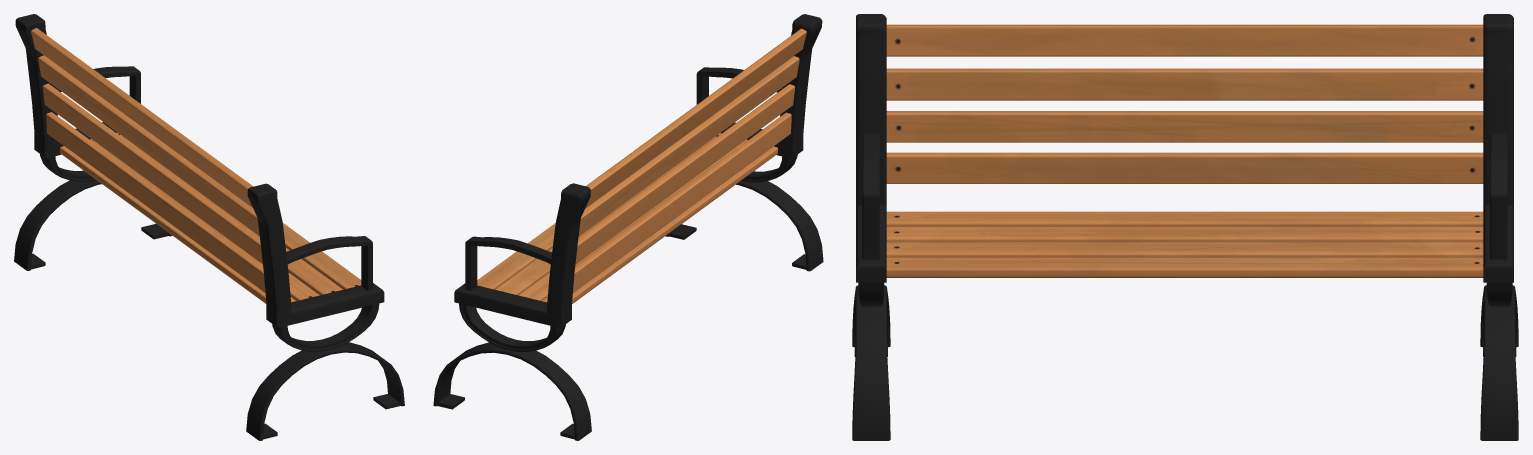
The model's file is bench.glb.
The picture shows the model from 3 angles, left to right: view 1: azimuth 30°, elevation 25°; view 2: azimuth 150°, elevation 25°; view 3: azimuth 270°, elevation 25°; orthographic projection. The views are drawn at different scales.
Parts seen in each view (by area): view 1: l_base, wood, wood4, wood3, wood8, big_base1, l_base2, big_base2, wood9, small_base, hand_support, wood12 (+4 smaller); view 2: l_base2, wood, wood4, wood3, wood8, big_base2, l_base, big_base1, wood9, small_base2, hand_support1, wood12 (+4 smaller); view 3: wood8, wood3, wood4, wood, wood12, wood11, wood10, wood9, l_base, l_base2, big_base2, big_base1 (+2 smaller).
Part boxes in pixels (x1,y1,x2,y2): l_base: [247, 183, 384, 327]; wood: [46, 112, 265, 292]; wood4: [42, 83, 262, 264]; wood3: [38, 55, 259, 235]; wood8: [31, 28, 253, 207]; big_base1: [246, 342, 404, 440]; l_base2: [15, 14, 117, 157]; big_base2: [14, 180, 172, 270]; wood9: [59, 146, 295, 303]; small_base: [272, 303, 379, 351]; hand_support: [286, 236, 372, 290]; wood12: [282, 223, 361, 289]; l_base2: [454, 183, 590, 327]; wood: [573, 112, 791, 292]; wood4: [575, 84, 795, 264]; wood3: [578, 56, 799, 236]; wood8: [585, 28, 806, 208]; big_base2: [433, 342, 591, 440]; l_base: [721, 14, 822, 158]; big_base1: [665, 180, 823, 271]; wood9: [542, 146, 778, 303]; small_base2: [459, 303, 565, 351]; hand_support1: [465, 236, 551, 290]; wood12: [477, 223, 555, 289]; wood8: [886, 24, 1483, 56]; wood3: [886, 68, 1483, 100]; wood4: [886, 111, 1483, 142]; wood: [886, 152, 1483, 183]; wood12: [886, 257, 1483, 277]; wood11: [886, 242, 1483, 257]; wood10: [886, 227, 1483, 242]; wood9: [886, 211, 1483, 226]; l_base: [856, 14, 886, 282]; l_base2: [1483, 14, 1513, 282]; big_base2: [1480, 285, 1518, 440]; big_base1: [852, 285, 890, 440].
Bounding box in the file's own units: 0.6136 × 0.9794 × 1.78.
Materials: 1 (1 with a texture image).
